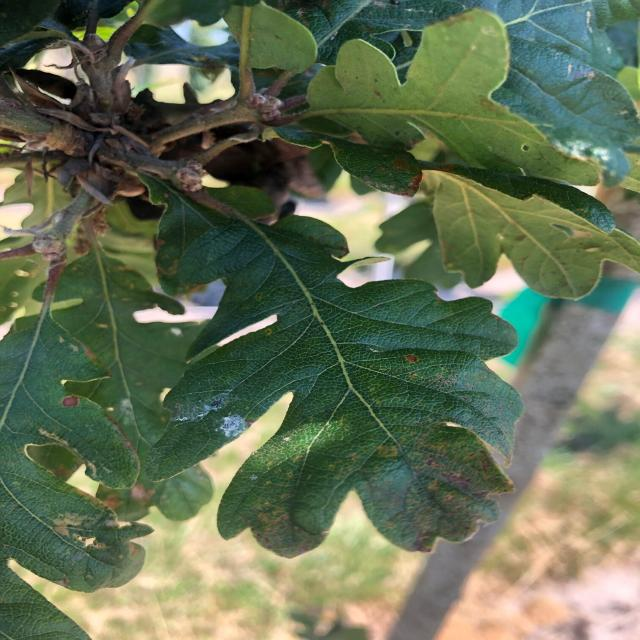Quercus garryana: (154, 188, 532, 554)
